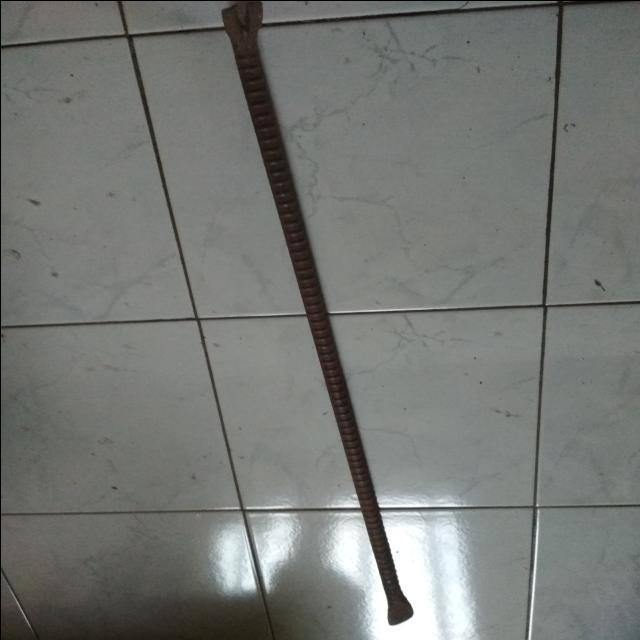Linggis: (223, 3, 414, 631)
